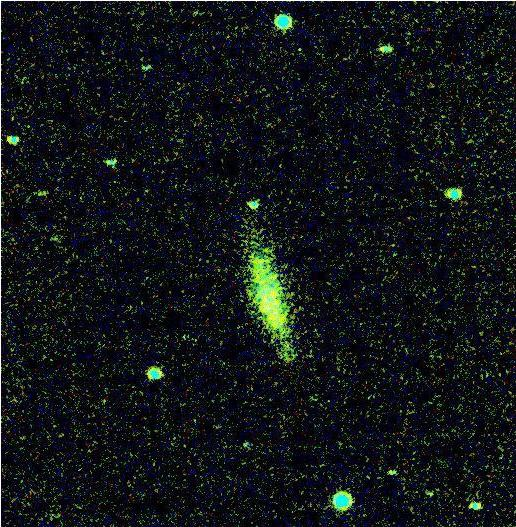star: (257, 310, 287, 340)
